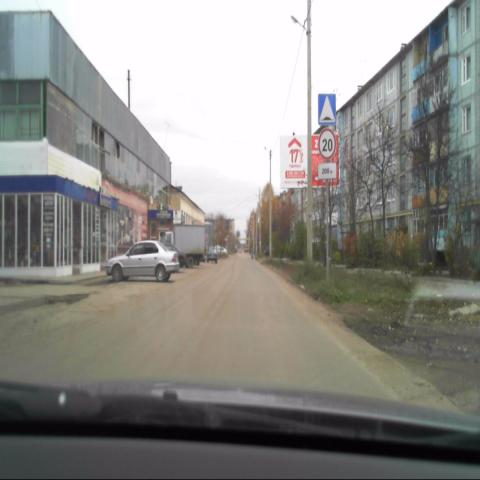8_1_1: (318, 163, 336, 180)
